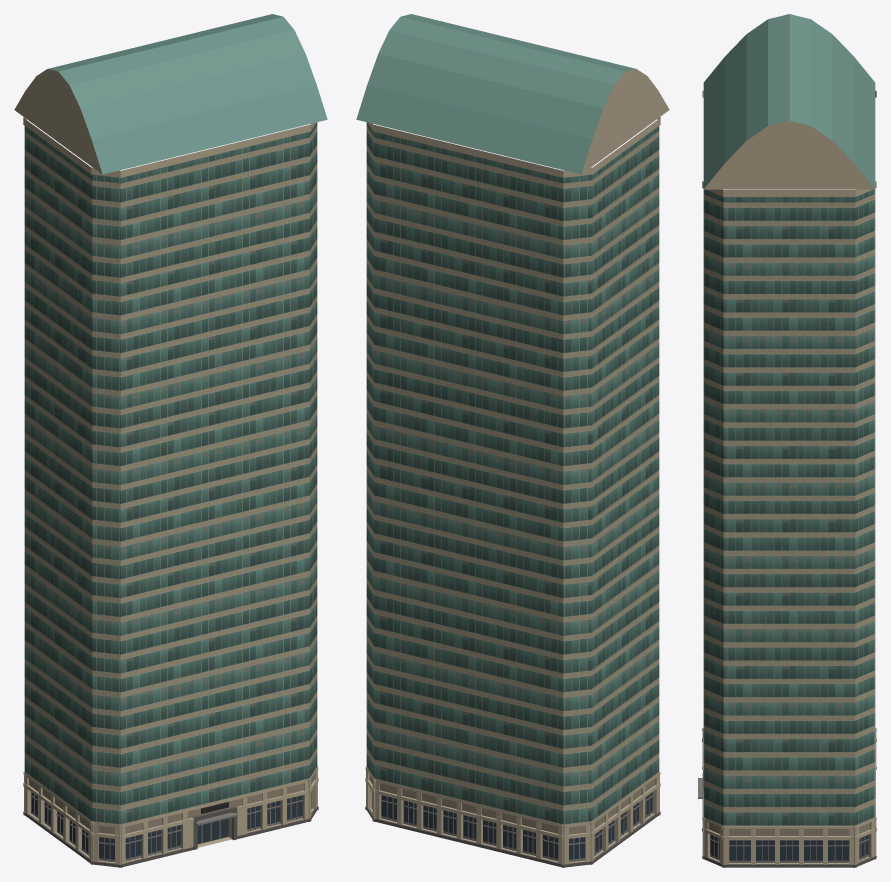
Rendered from fourth_and_madison.glb.
3 views of the same model, side by side, from view 1: azimuth 30°, elevation 25°; view 2: azimuth 150°, elevation 25°; view 3: azimuth 270°, elevation 25° (orthographic). The views are drawn at different scales.
Visible parts, largest first — view 1: fourth_and_madison; view 2: fourth_and_madison; view 3: fourth_and_madison.
Part boxes in pixels (x1,y1,x2,y2): fourth_and_madison: (14,14,327,867); fourth_and_madison: (356,14,669,867); fourth_and_madison: (698,14,876,867).
Bounding box in the file's own units: 50.63 × 163 × 35.4.
2 materials, 2 textured.
